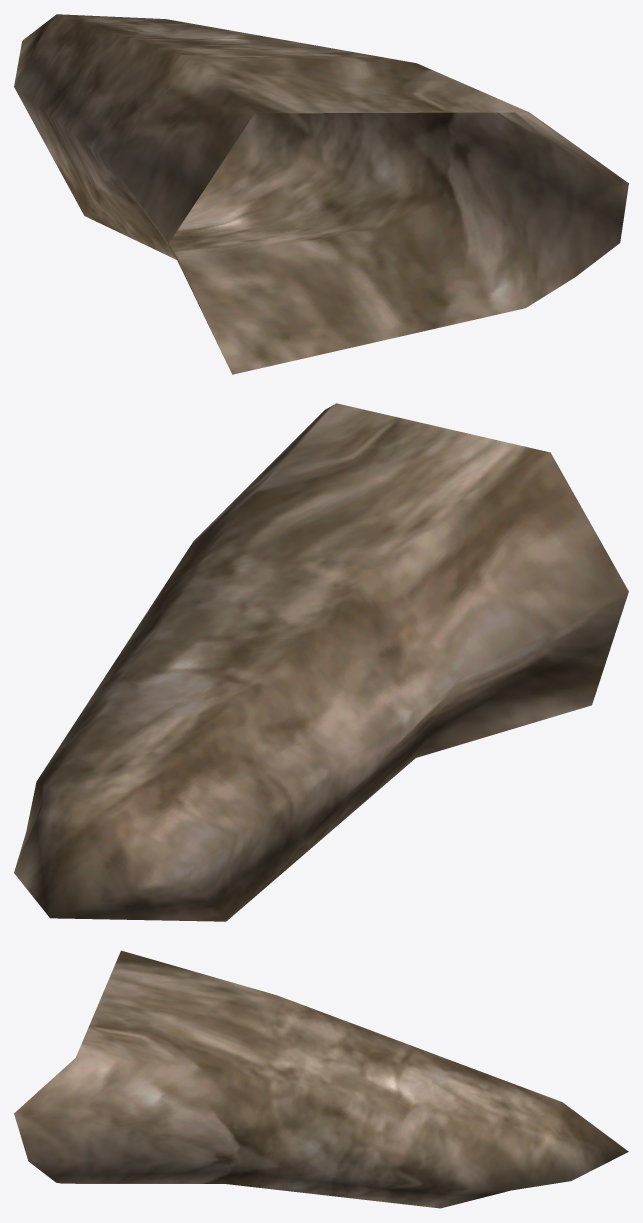
File: OVERHILL_A_01_ROCK04.fbx
The picture shows the model from 3 angles, top to bottom: view 1: azimuth 30°, elevation 25°; view 2: azimuth 150°, elevation 25°; view 3: azimuth 270°, elevation 25°; orthographic projection. The views are drawn at different scales.
Visible parts, largest first — view 1: OVERHILL_A_01_ROCK04; view 2: OVERHILL_A_01_ROCK04; view 3: OVERHILL_A_01_ROCK04.
Part boxes in pixels (<box>): OVERHILL_A_01_ROCK04: <box>14,14,628,374</box>; OVERHILL_A_01_ROCK04: <box>14,403,628,921</box>; OVERHILL_A_01_ROCK04: <box>14,950,628,1208</box>.
Bounding box in the file's own units: 36926 × 27748 × 73564.
Materials: 1 (1 with a texture image).
